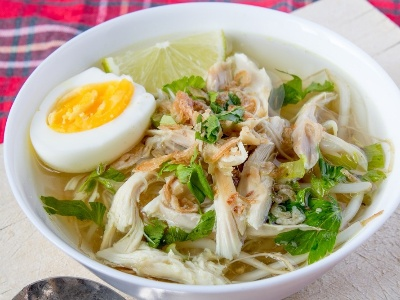soto: (49, 48, 369, 264)
